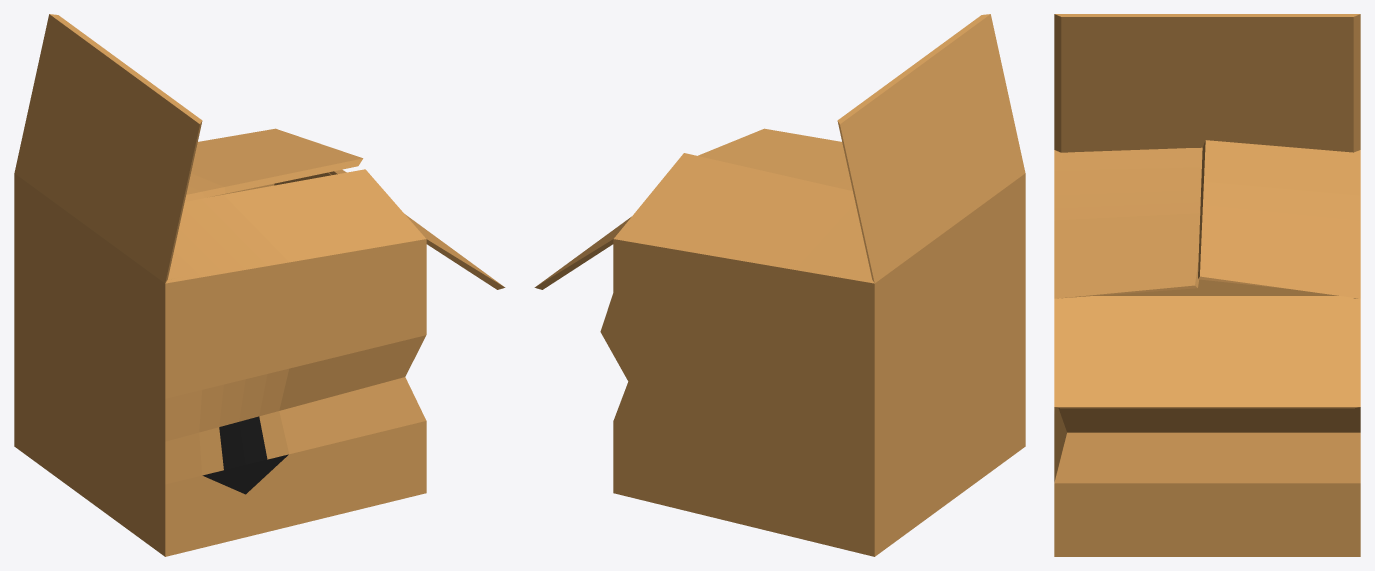
Rendered from cardboardBox.fbx.
3 views of the same model, side by side, from view 1: azimuth 30°, elevation 25°; view 2: azimuth 150°, elevation 25°; view 3: azimuth 270°, elevation 25° (orthographic).
Parts seen in each view (by area): view 1: Cardboard Box; view 2: Cardboard Box; view 3: Cardboard Box.
Part boxes in pixels (bbox=[...]): Cardboard Box: bbox=[14, 14, 505, 556]; Cardboard Box: bbox=[534, 14, 1025, 556]; Cardboard Box: bbox=[1054, 14, 1360, 556].
Bounding box in the file's own units: 22.34 × 17.15 × 26.61.
